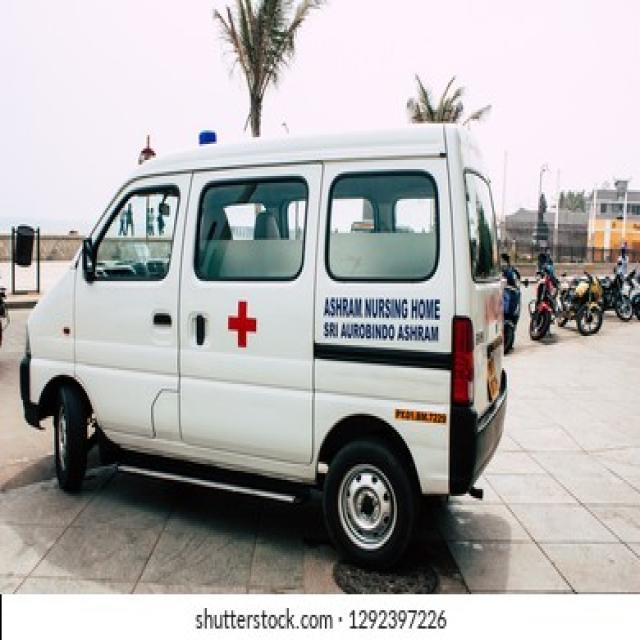ambulance: (18, 120, 515, 563)
